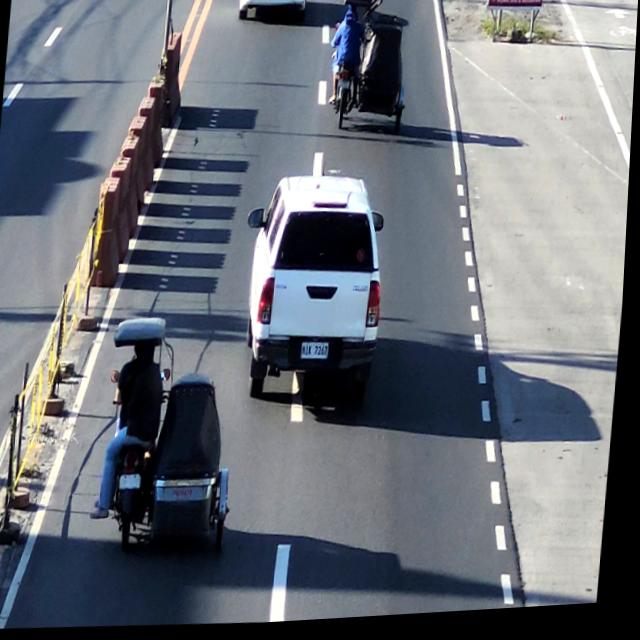Car: (101, 315, 249, 560), (244, 168, 391, 414), (235, 0, 309, 26)
License-Plate: (301, 344, 334, 368), (123, 475, 147, 495)
Tricycle: (325, 0, 418, 140)
